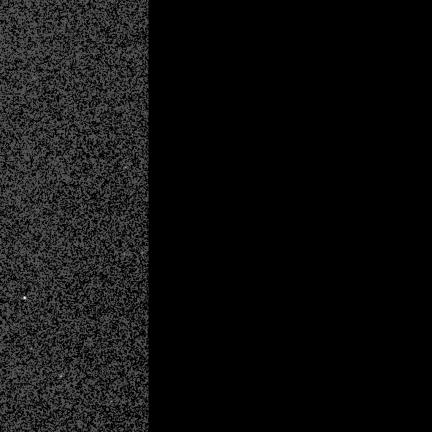blob: (23, 297, 27, 300)
